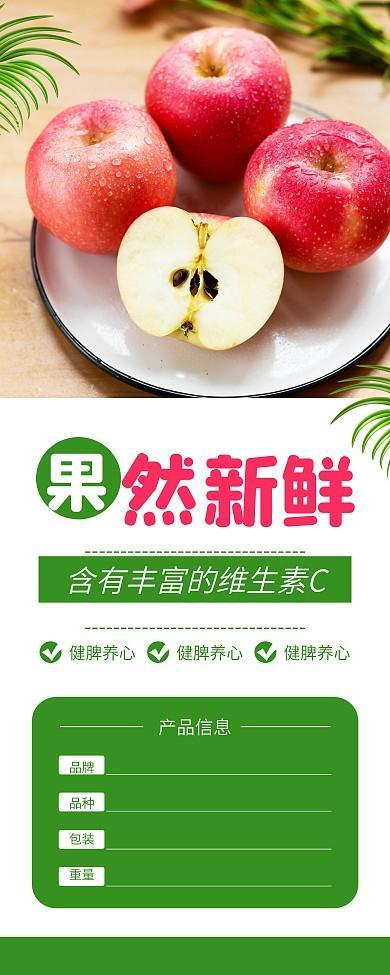apple: (113, 206, 285, 353), (27, 100, 179, 259), (145, 27, 294, 186), (241, 118, 389, 275)
